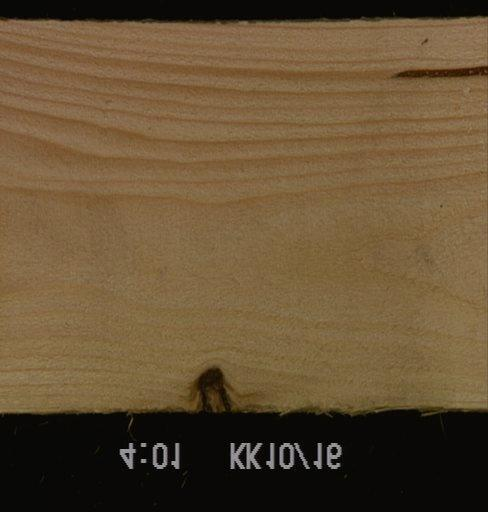edge_knot: (183, 366, 236, 412)
